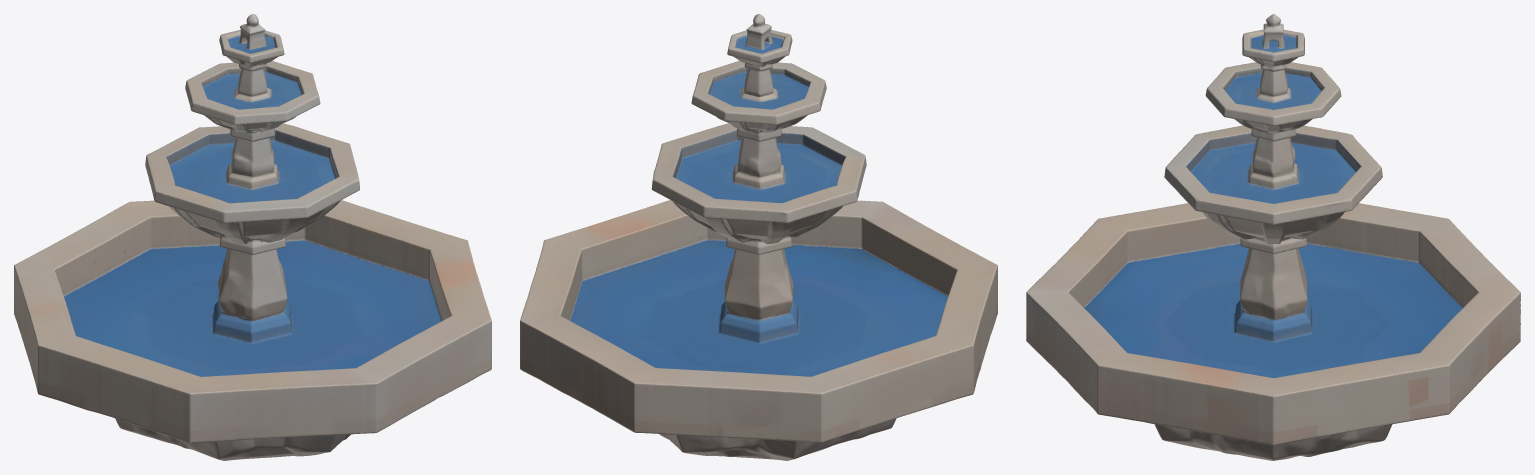
The model's file is fountain.glb.
The picture shows the model from 3 angles, left to right: view 1: azimuth 30°, elevation 25°; view 2: azimuth 150°, elevation 25°; view 3: azimuth 270°, elevation 25°; orthographic projection.
Visible parts, largest first — view 1: tripo_node_d3a8ec7a-8897-4ce3-b084-c060e7747bc3; view 2: tripo_node_d3a8ec7a-8897-4ce3-b084-c060e7747bc3; view 3: tripo_node_d3a8ec7a-8897-4ce3-b084-c060e7747bc3.
Boxes of the visible parts, x1=… form: tripo_node_d3a8ec7a-8897-4ce3-b084-c060e7747bc3: x1=14, y1=14, x2=491, y2=460; tripo_node_d3a8ec7a-8897-4ce3-b084-c060e7747bc3: x1=520, y1=14, x2=997, y2=460; tripo_node_d3a8ec7a-8897-4ce3-b084-c060e7747bc3: x1=1026, y1=14, x2=1520, y2=460.
Size of the model in its own units: 0.9998 by 0.9495 by 1.
1 material, 1 textured.
